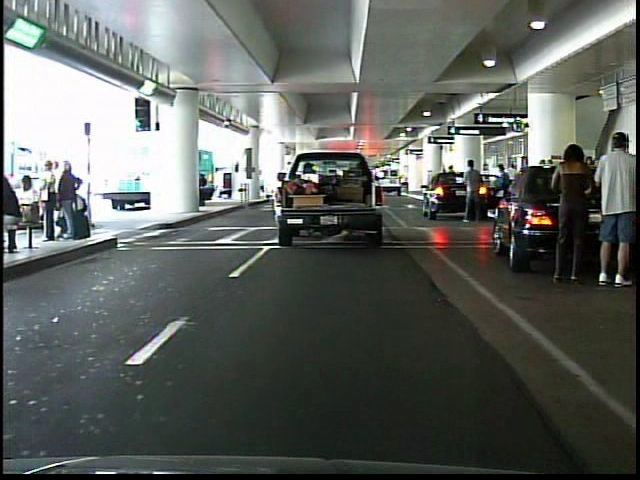person: (585, 125, 637, 291), (550, 134, 600, 290), (458, 153, 488, 229), (487, 161, 513, 226)
